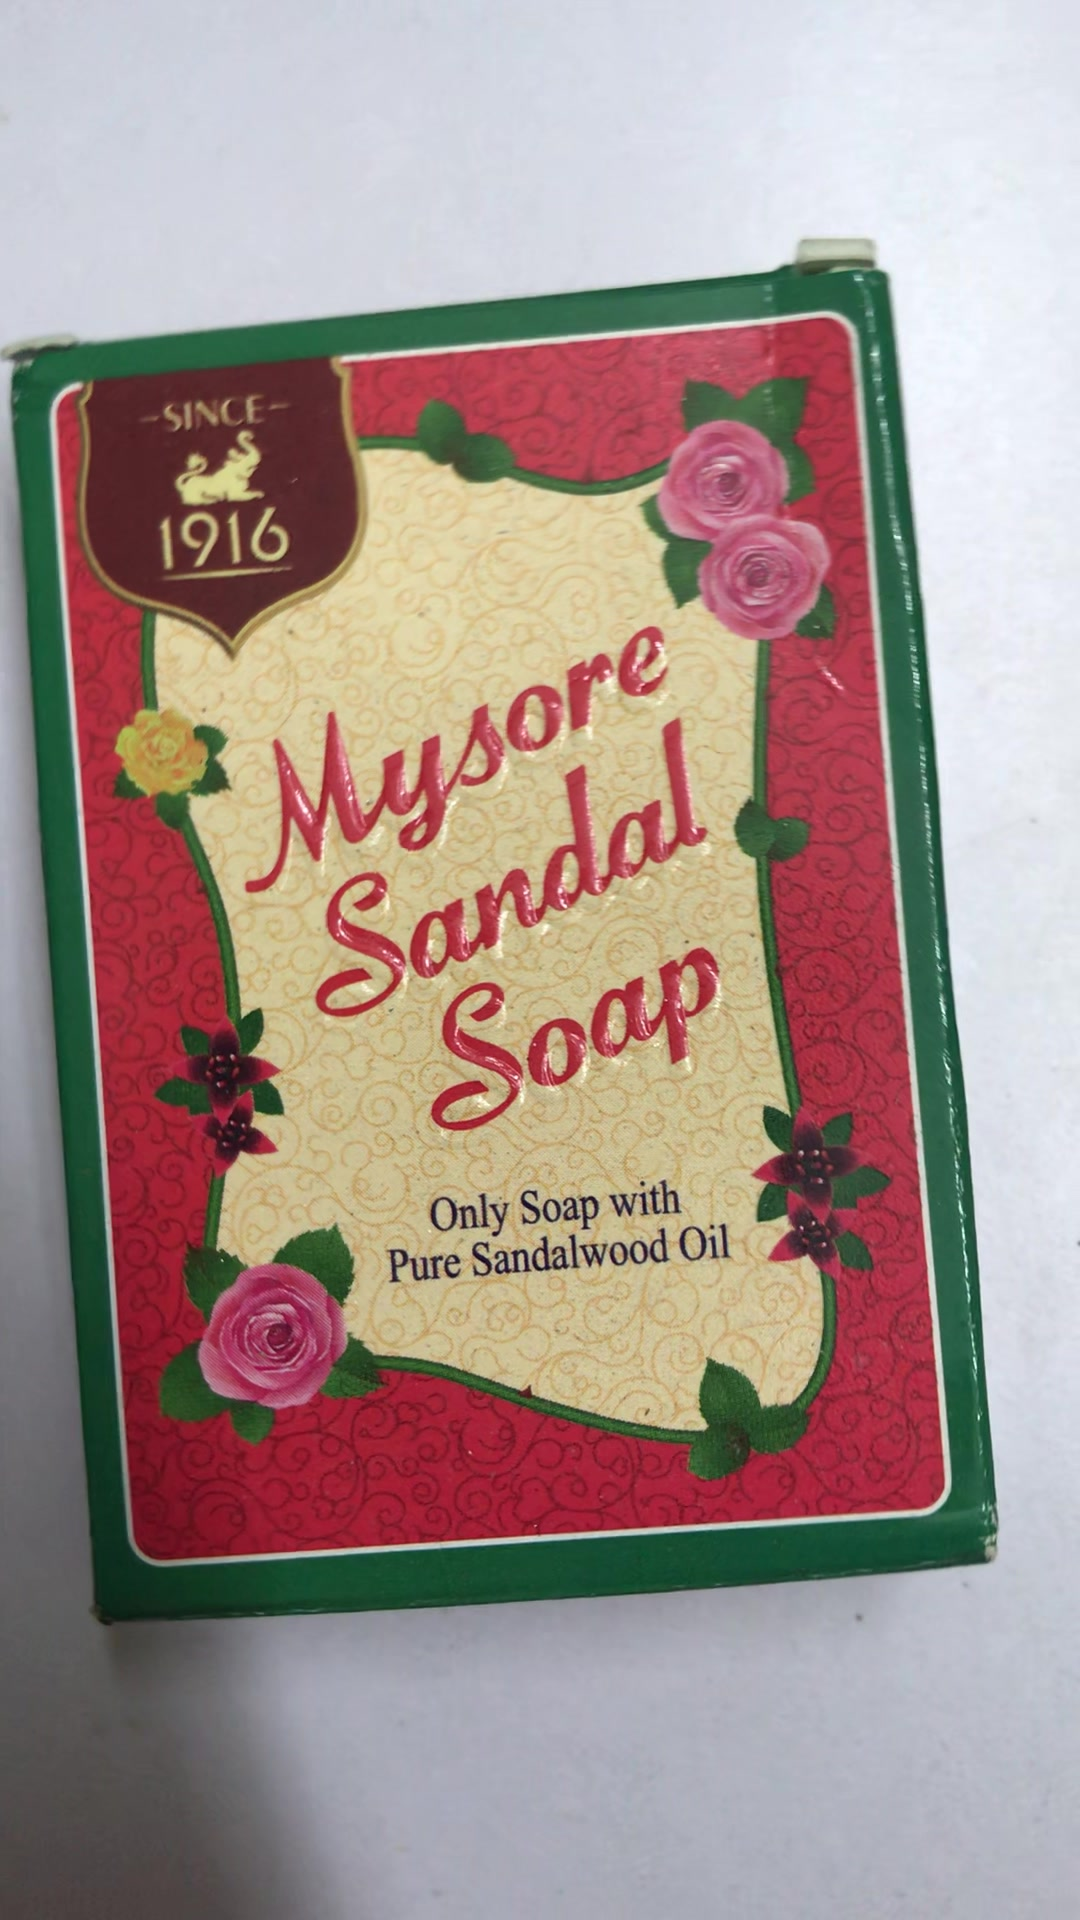mysore sandal soap: (15, 256, 1001, 1629)
